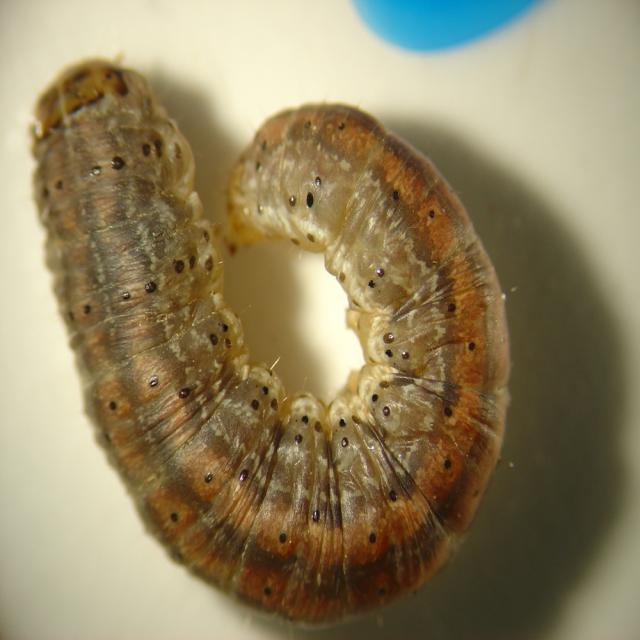Cutworm: (26, 63, 515, 625)
